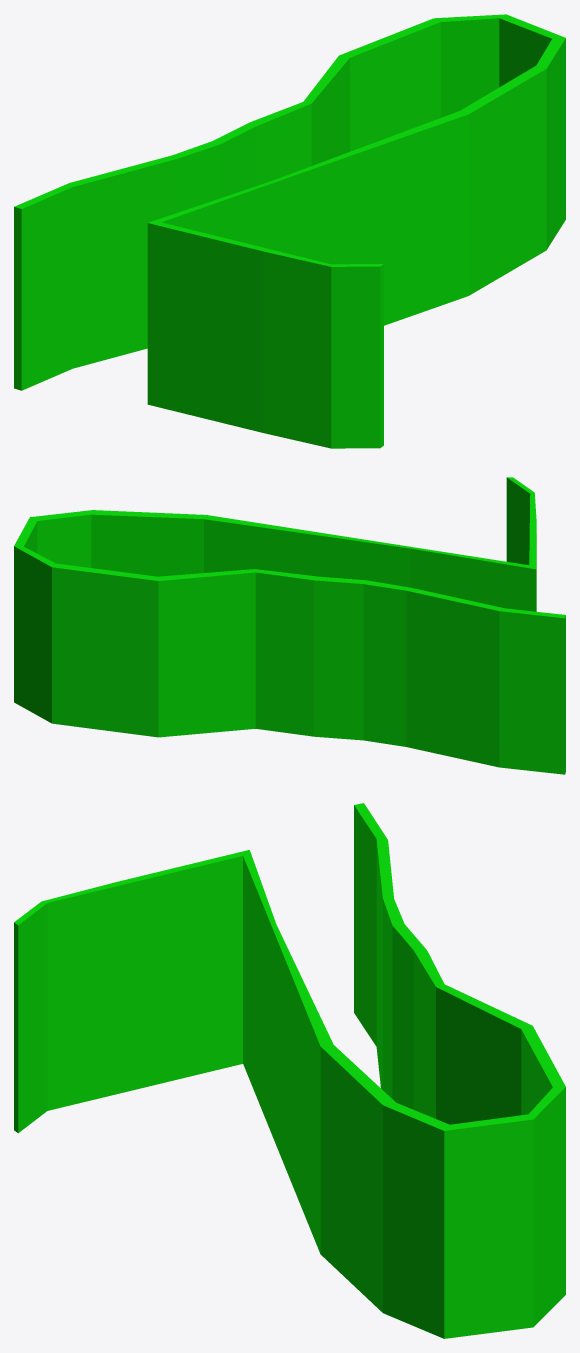
File: InvisibleWall_018.fbx
The picture shows the model from 3 angles, top to bottom: view 1: azimuth 30°, elevation 25°; view 2: azimuth 150°, elevation 25°; view 3: azimuth 270°, elevation 25°; orthographic projection. The views are drawn at different scales.
Visible parts, largest first — view 1: Designer233; view 2: Designer233; view 3: Designer233.
Boxes of the visible parts, <box> form: Designer233: <box>14,14,565,448</box>; Designer233: <box>14,477,565,774</box>; Designer233: <box>14,803,565,1338</box>.
Bounding box in the file's own units: 4401 × 1301 × 3131.
